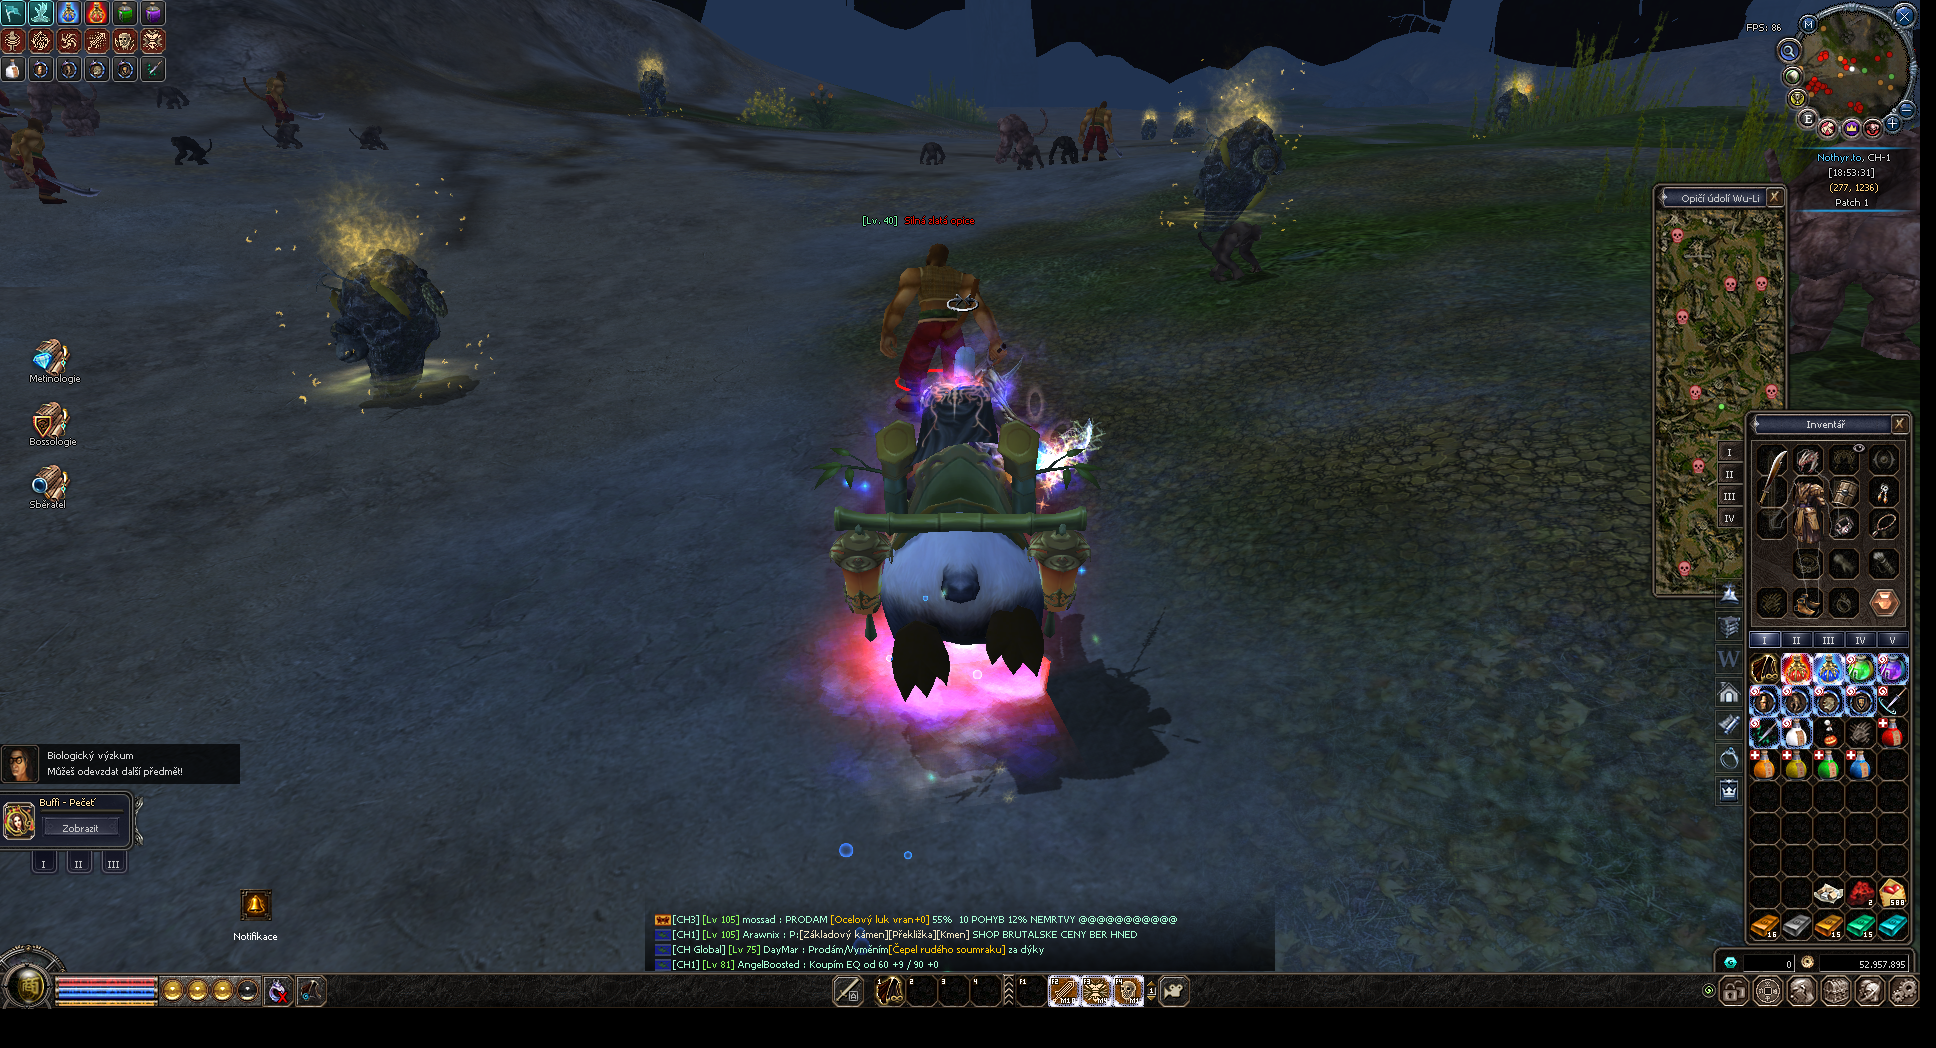Buff: (343, 243, 440, 377), (1204, 114, 1274, 207), (1497, 86, 1527, 130), (641, 70, 669, 111), (1138, 117, 1160, 146), (1176, 116, 1196, 142)
Enemy: (879, 244, 1005, 410), (884, 243, 994, 383), (9, 117, 66, 204), (1196, 219, 1261, 283), (243, 70, 296, 128), (995, 108, 1048, 166), (1078, 99, 1113, 161), (62, 88, 101, 137), (1085, 99, 1113, 161), (170, 136, 212, 166), (259, 123, 305, 148), (351, 126, 388, 151), (1047, 136, 1076, 164), (157, 85, 190, 108), (919, 141, 946, 165)
Me: (830, 392, 1088, 698)
